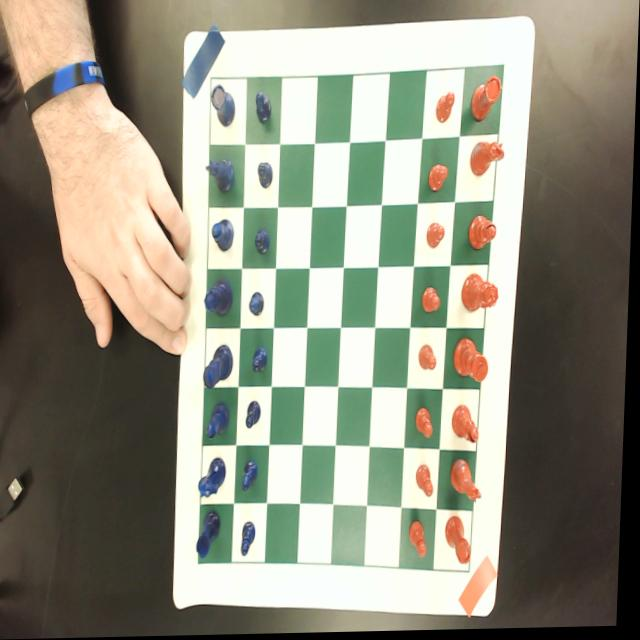B: (209, 404, 234, 440), (213, 219, 236, 254)
K: (206, 345, 237, 391)
N: (205, 158, 236, 196), (202, 458, 230, 500)
P: (253, 347, 272, 377), (256, 93, 273, 125), (245, 523, 260, 559), (246, 462, 262, 494), (248, 402, 265, 432), (256, 228, 273, 257), (258, 163, 275, 191), (251, 292, 267, 319)
Q: (206, 279, 235, 318)
R: (208, 87, 237, 131), (200, 510, 226, 559)
b: (454, 407, 483, 446), (470, 217, 499, 253)
k: (455, 338, 492, 385)
n: (454, 461, 487, 507), (471, 142, 507, 181)
p: (412, 521, 432, 561), (419, 467, 439, 501), (436, 92, 456, 126), (417, 409, 437, 442), (429, 164, 450, 194), (420, 346, 440, 374), (428, 224, 447, 252), (424, 288, 443, 314)
q: (463, 275, 502, 316)
r: (471, 77, 504, 125), (448, 518, 477, 569)
